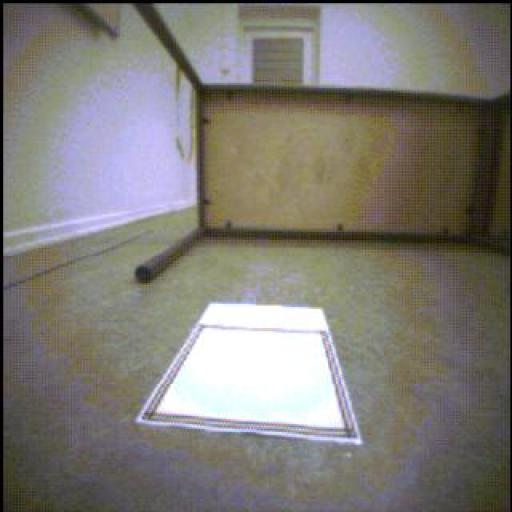Pad: (139, 305, 363, 446)
